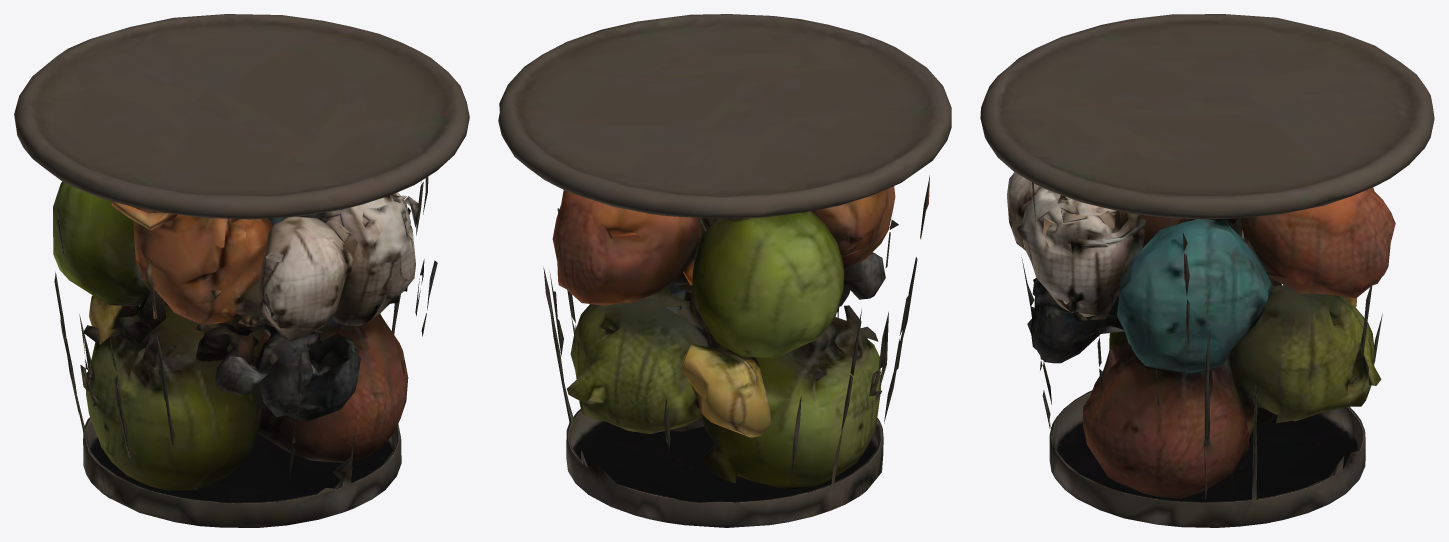
The model's file is deco_bin.glb.
3 renders of one model, left to right at view 1: azimuth 30°, elevation 25°; view 2: azimuth 150°, elevation 25°; view 3: azimuth 270°, elevation 25°, orthographic.
Visible parts, largest first — view 1: tripo_node_b47813f9-b739-434f-981d-75b9c5b32f4c; view 2: tripo_node_b47813f9-b739-434f-981d-75b9c5b32f4c; view 3: tripo_node_b47813f9-b739-434f-981d-75b9c5b32f4c.
Part boxes in pixels (<box>): tripo_node_b47813f9-b739-434f-981d-75b9c5b32f4c: <box>14,14,469,527</box>; tripo_node_b47813f9-b739-434f-981d-75b9c5b32f4c: <box>498,14,951,527</box>; tripo_node_b47813f9-b739-434f-981d-75b9c5b32f4c: <box>980,14,1434,527</box>.
Size of the model in its own units: 1 by 0.8622 by 0.9981.
Materials: 1 (1 with a texture image).
